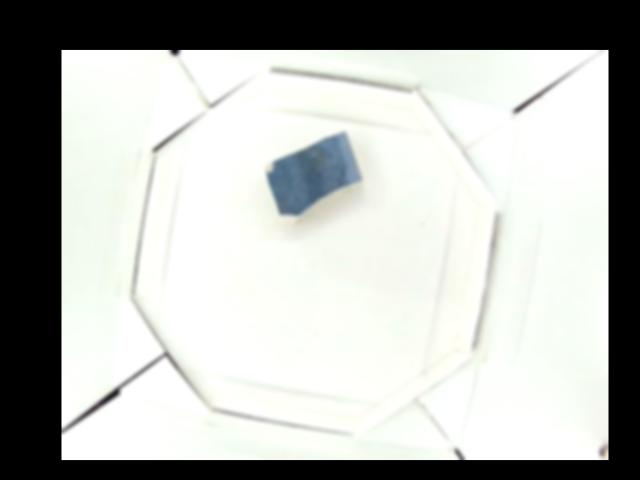China: (264, 129, 362, 218)
